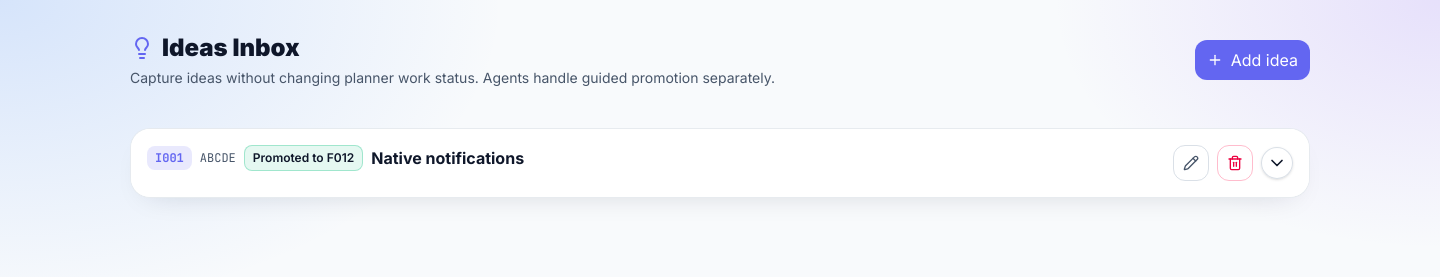
it: Ideas Inbox UI › keeps ideas closed by default while preserving refs, promotion history, and management actions
Expected: the heading "Ideas Inbox" is shown, [130,33,300,62]
Expected: the text "I001" is shown, [147,146,192,170]
Click the heading "I001 ABCDE Promoted to F012 Native notifications" at (169, 158), box [131,129,1309,197]
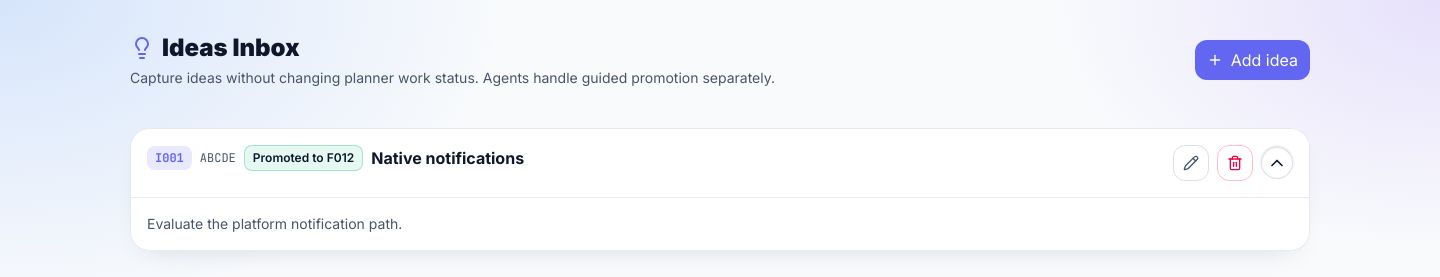
Now the text "Evaluate the platform notification path." is shown, box [147,215,402,232]
